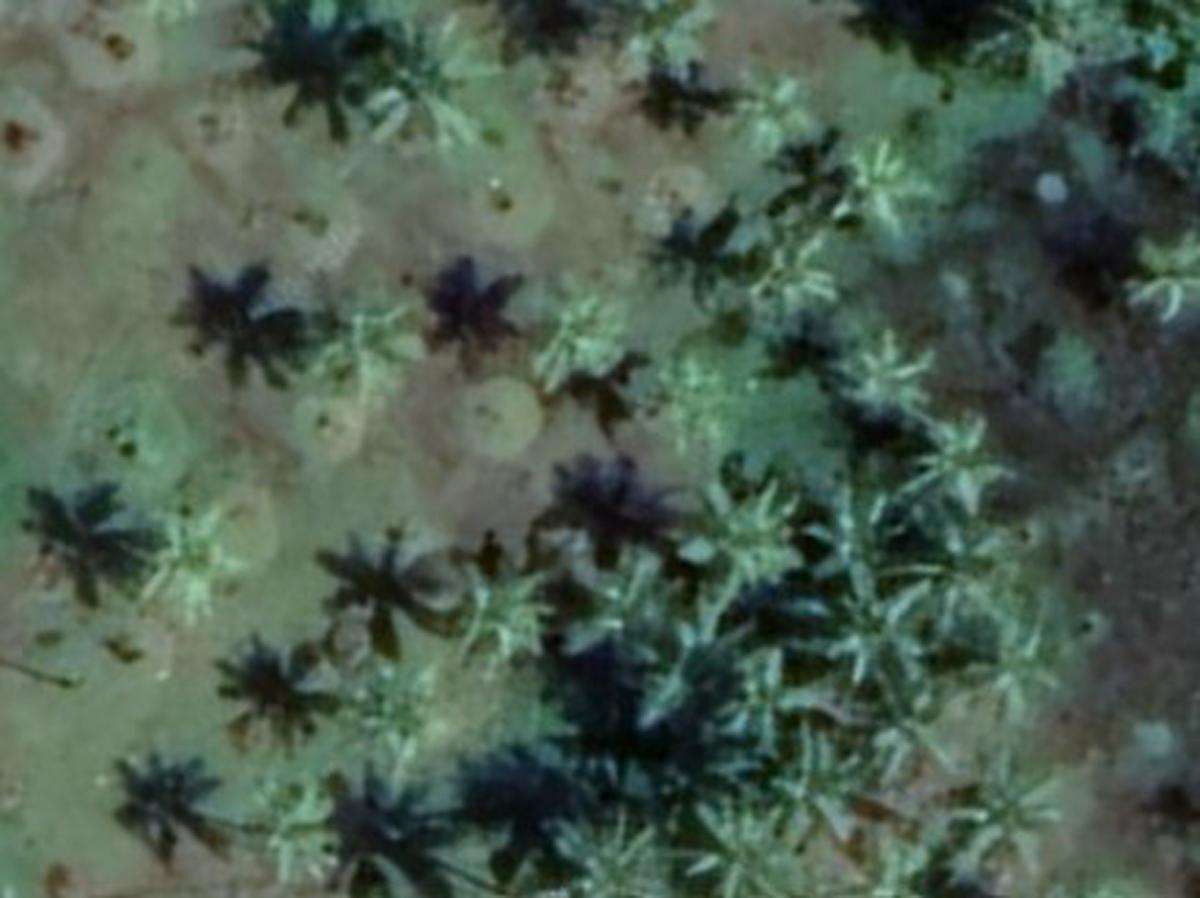coconut: (359, 13, 497, 142), (906, 411, 1024, 538), (752, 722, 878, 837), (727, 219, 845, 340), (812, 565, 933, 681), (941, 752, 1065, 865), (302, 293, 428, 400), (131, 505, 244, 623), (691, 469, 796, 593), (804, 486, 914, 598), (952, 595, 1065, 703), (818, 123, 936, 225), (335, 653, 436, 771), (540, 807, 670, 898), (826, 326, 939, 425), (722, 74, 829, 173), (689, 801, 804, 892), (518, 288, 623, 384), (645, 354, 744, 455), (444, 560, 546, 653), (1120, 222, 1200, 335), (252, 777, 354, 854)
